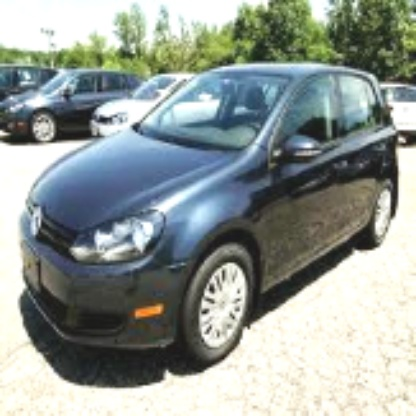Vehicle: (22, 66, 402, 376)
